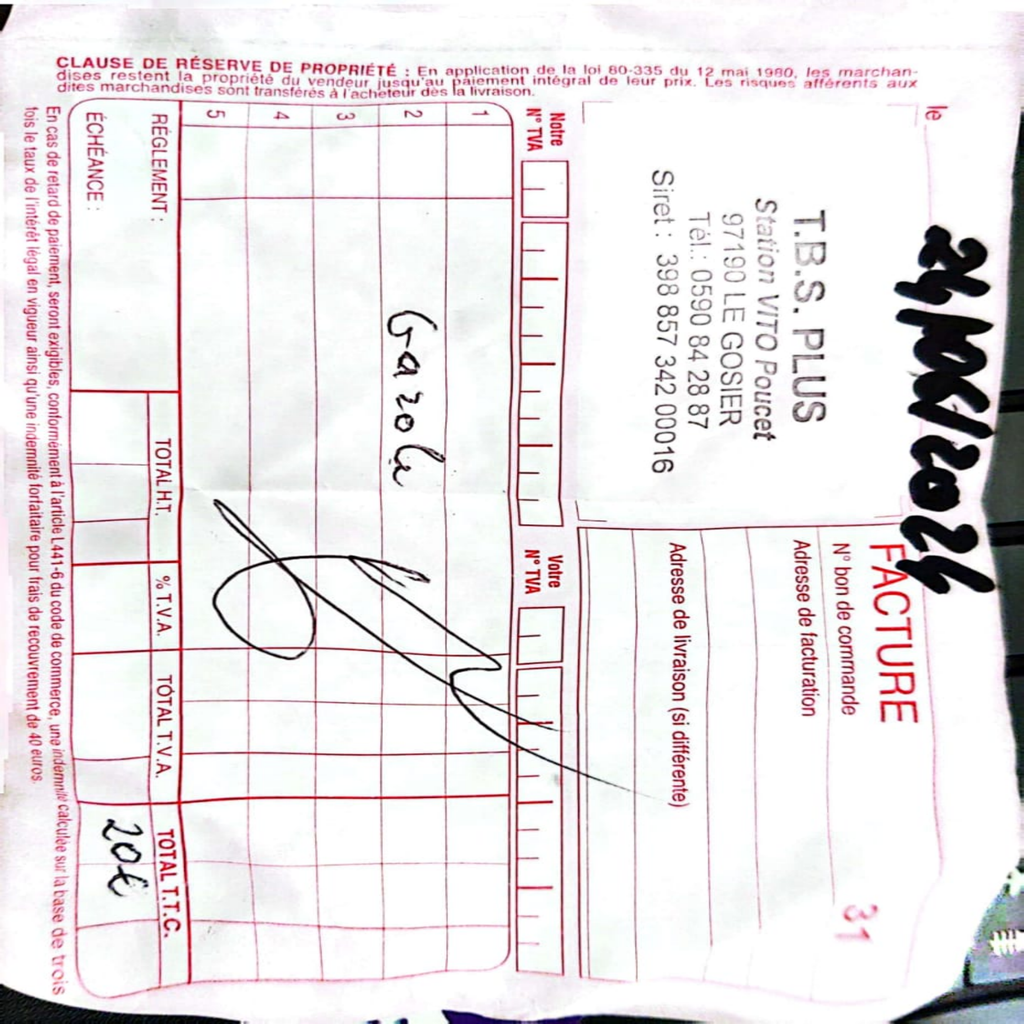recipt: (4, 0, 1022, 1009)
